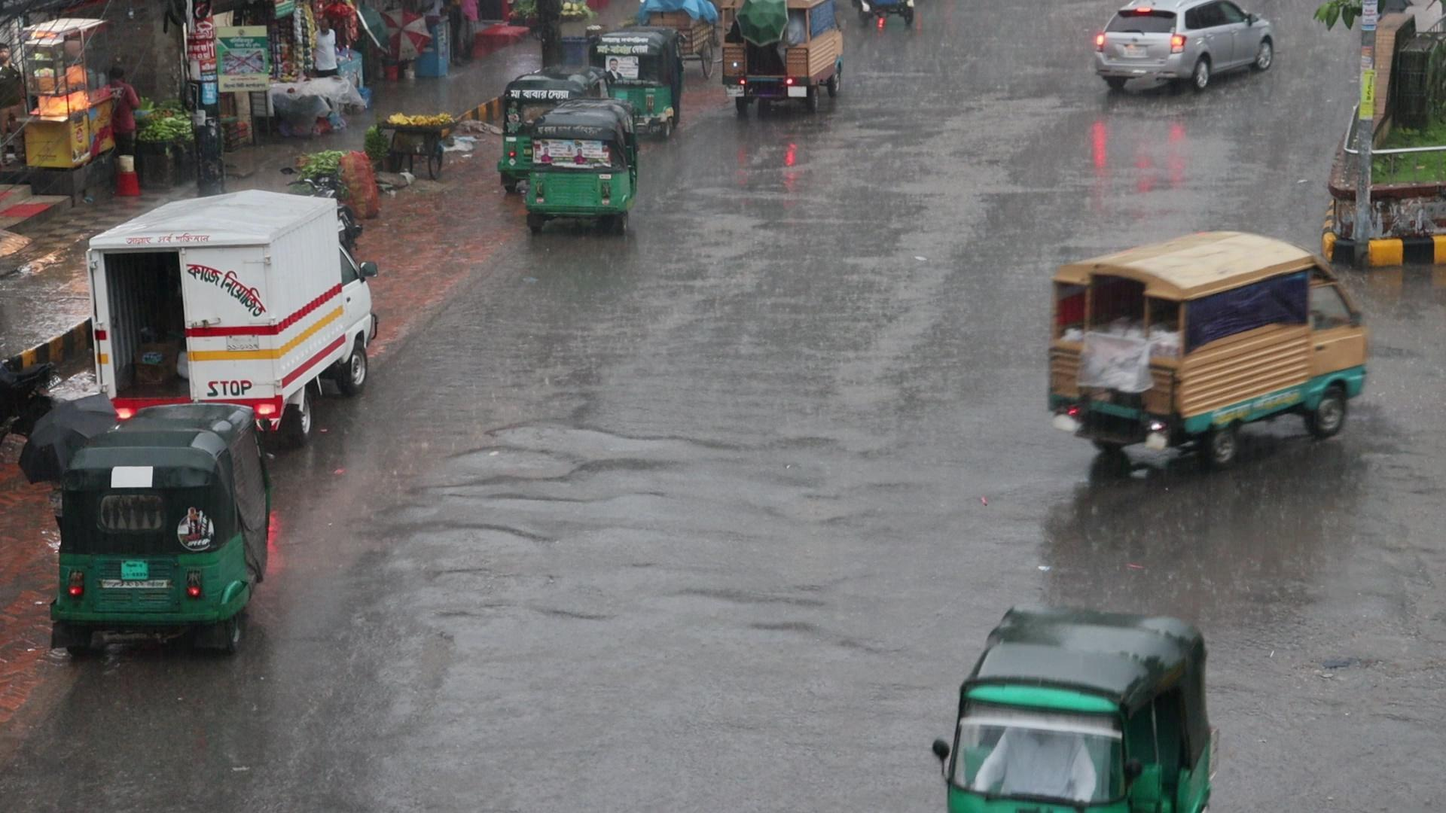Car: (1092, 0, 1277, 91)
Truck: (1046, 228, 1371, 468), (717, 0, 844, 111)
